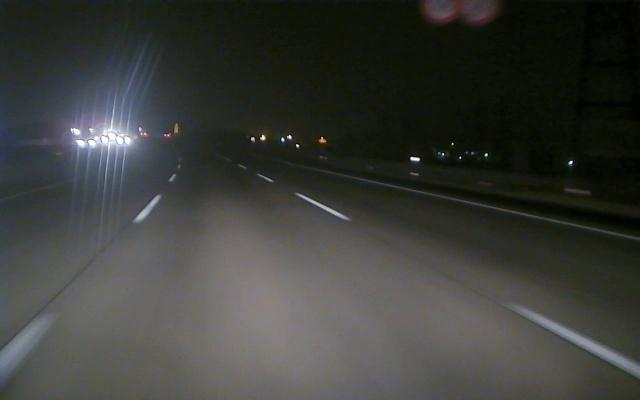lane: (294, 189, 638, 379), (0, 174, 175, 391), (335, 173, 637, 241)
